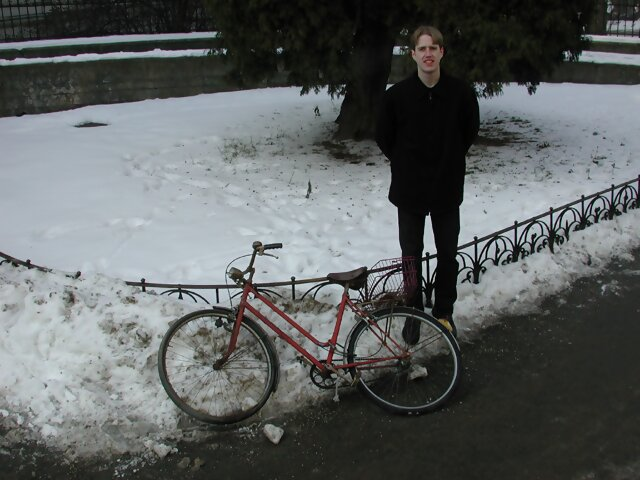person: (368, 21, 482, 349)
